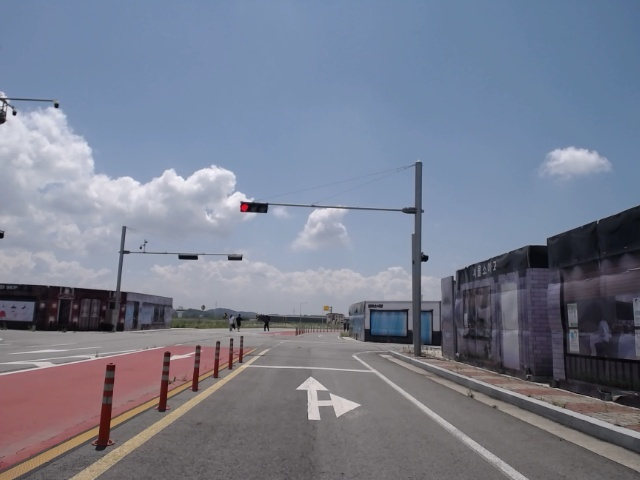red_3: (238, 201, 269, 214)
